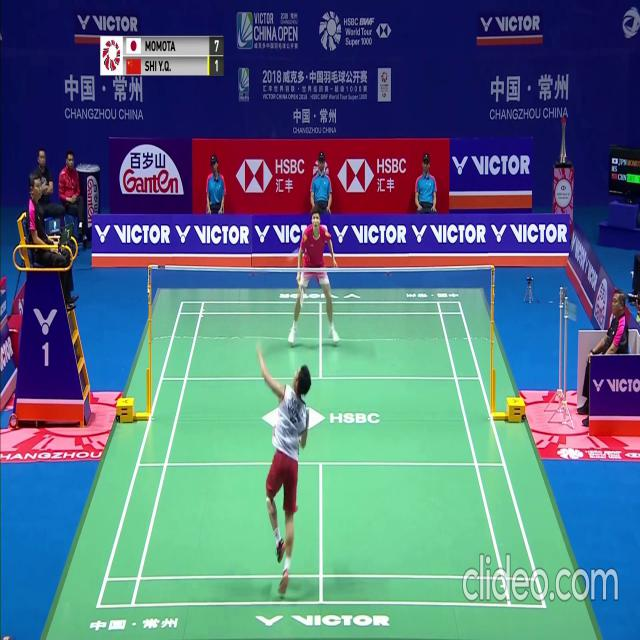Shuttlecock: (296, 247, 301, 254)
